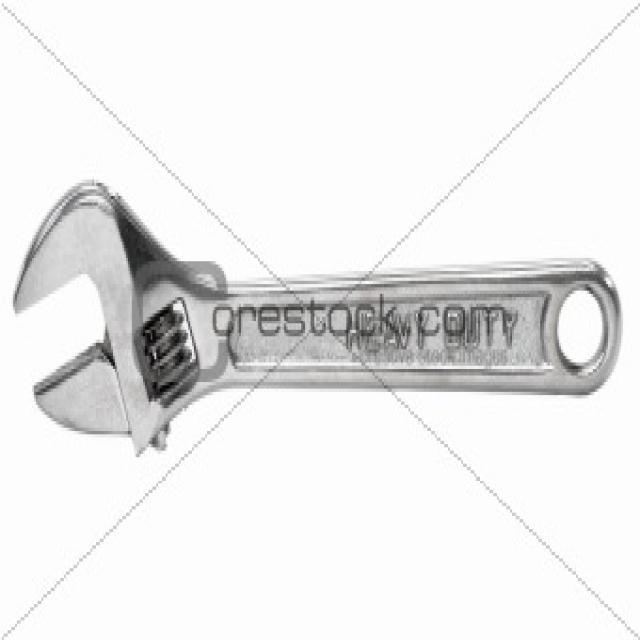wrench: (8, 172, 627, 461)
